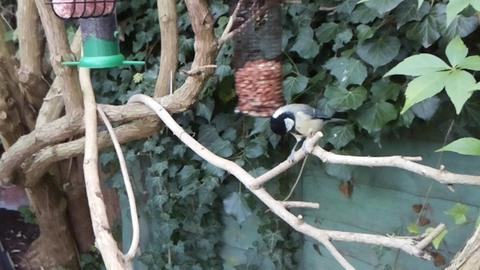great tit: (270, 103, 350, 164)
